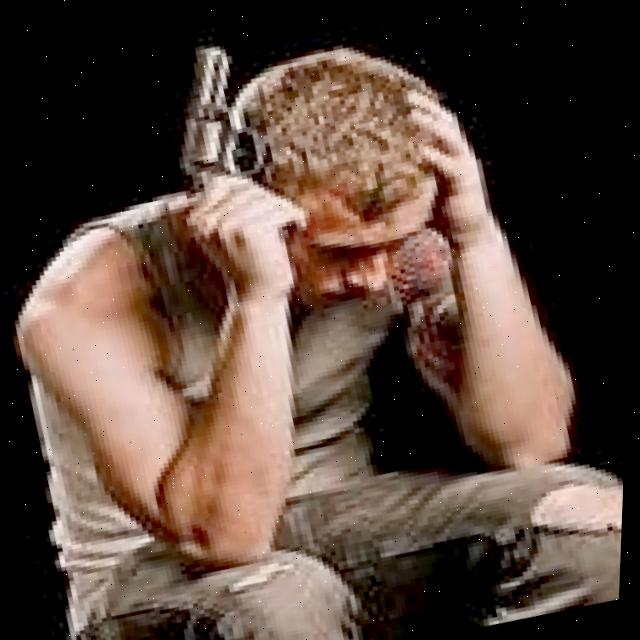pistol: (149, 32, 274, 196)
